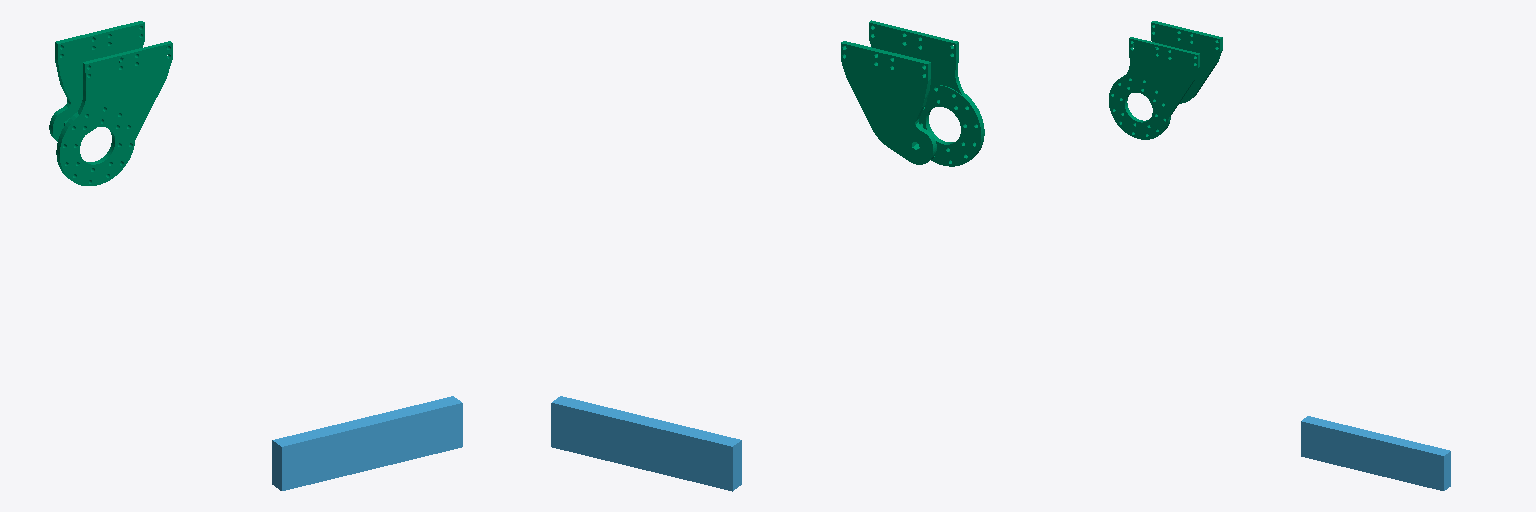
URDF robot description (Wall-E):
<?xml version="1.0"?>
<robot name="Wall-E">
  <link name="base_link">
    <visual>
    <origin rpy="0 0 0" xyz="0 0 0"/>
      <geometry>
        <mesh filename="package://walle_description/meshes/wallebody.dae"/>
      </geometry>
    </visual>
  </link>
  
  <joint name="neck1_joint" type="revolute">
    <axis xyz="0 1 0"/>
    <limit effort="1000.0" lower="-1.57" upper="1.57" velocity="0.5"/>
    <origin rpy="0 0 0" xyz="-0.356 0 0.363"/>
    <parent link="base_link"/>
    <child link="neck1"/>
  </joint>
  
  <link name="neck1">
    <visual>
      <origin rpy="0 0 0" xyz="0.356 0 -0.363"/>
      <geometry>
        <mesh filename="package://walle_description/meshes/neck1.dae"/>
      </geometry>
    </visual>
  </link>
  
  <joint name="neck2_joint" type="revolute">
    <axis xyz="0 1 0"/>
    <limit effort="1000.0" lower="-1.57" upper="1.57" velocity="0.5"/>
    <origin rpy="0 0 0" xyz="0 0 0"/>
    <parent link="neck1"/>
    <child link="neck2"/>
  </joint>
  
  <link name="neck2">
    <visual>
      <origin rpy="0 0 0" xyz="0 0 0"/>
      <geometry>
        <mesh filename="package://walle_description/meshes/neck2.dae"/>
      </geometry>
    </visual>
  </link>
  
</robot>

--- Facts derived from the render (not from the file) ---
The picture shows the robot from 3 angles, left to right: view 1: azimuth 30°, elevation 25°; view 2: azimuth 150°, elevation 25°; view 3: azimuth 330°, elevation 25°; orthographic projection.
Model Wall-E with 3 links and 2 joints (2 revolute), rooted at base_link, posed all joints at 0.
Visible links, largest first — view 1: neck2, neck1; view 2: neck2, neck1; view 3: neck2, neck1.
Boxes of the visible links, x1,y1,x2,y2 form: neck2: (49, 21, 172, 185); neck1: (272, 396, 462, 490); neck2: (841, 20, 984, 166); neck1: (551, 396, 741, 491); neck2: (1109, 21, 1222, 139); neck1: (1301, 416, 1450, 490).
Bounding box of the posed robot: 0.4147 × 0.0535 × 0.4653 m (x, y, z).
2 mesh visuals loaded from 3 distinct referenced files (2 Collada DAE); not drawn: 1 (reference not matched to a file when rendering).